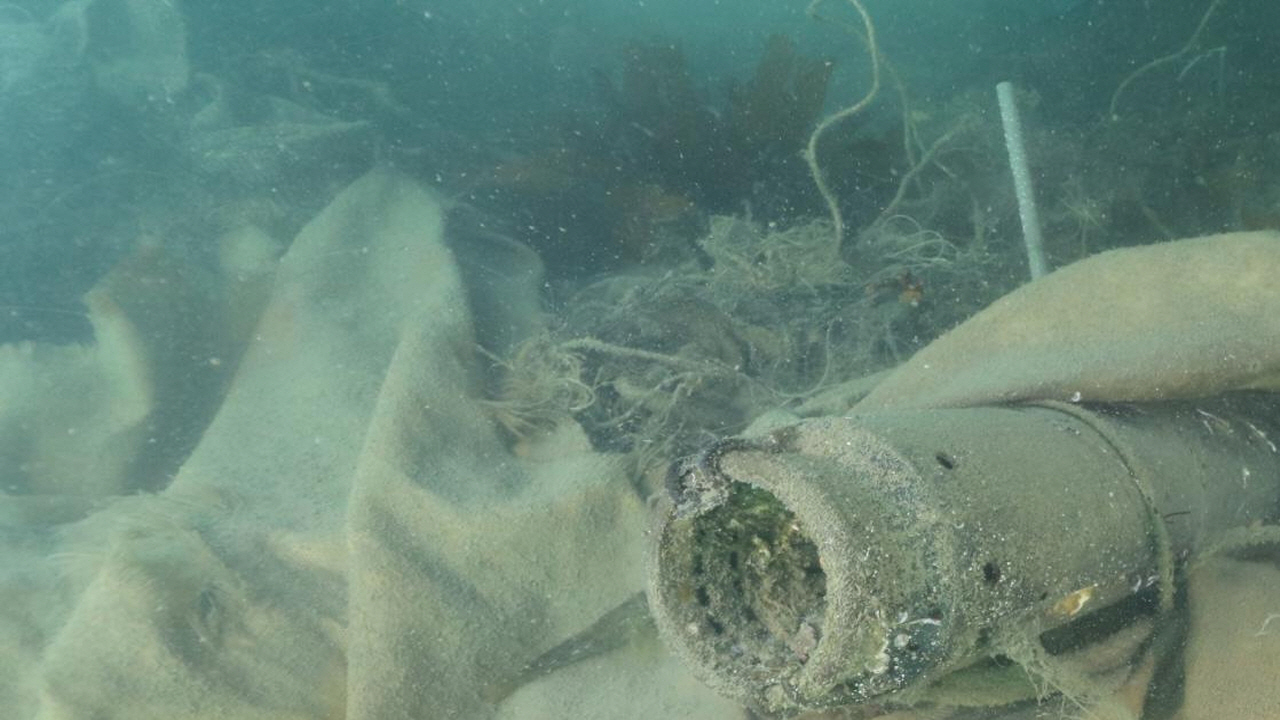bundle of ropes: (929, 397, 1174, 720), (805, 0, 982, 247)
eel fish trap: (648, 395, 1280, 720)
